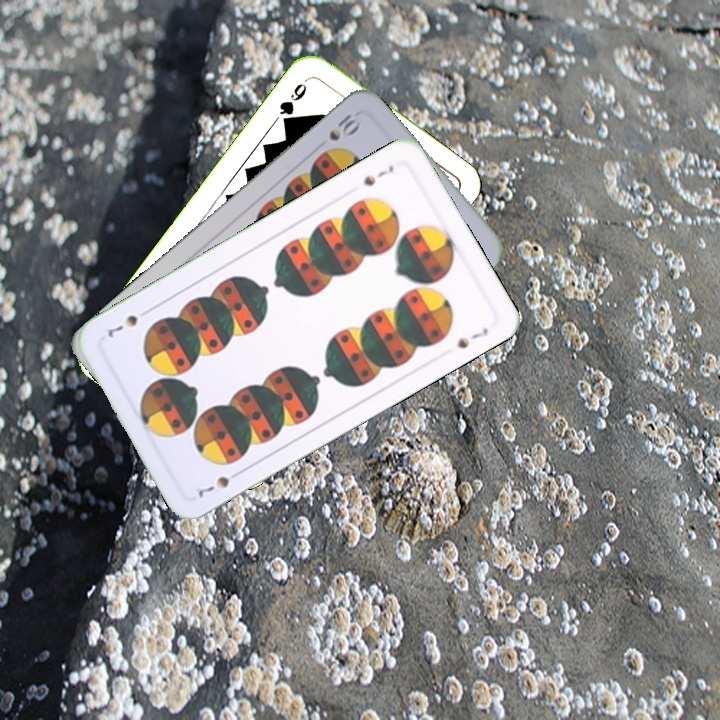G9: (275, 79, 310, 129)
S10: (324, 107, 361, 144)
S7: (191, 466, 245, 500), (359, 160, 397, 189)
